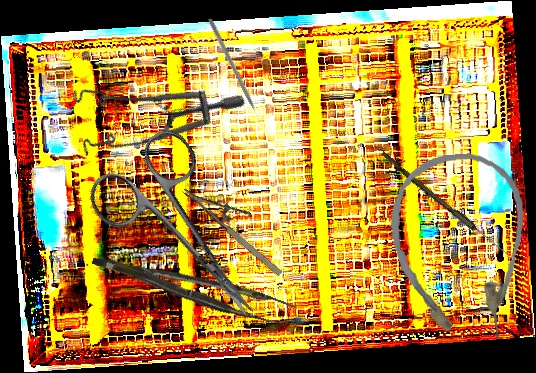Cannula: (384, 149, 535, 347)
Iris Scissors: (79, 122, 293, 351)
Needle Holder: (182, 169, 297, 279)
Pusher: (206, 17, 264, 127)
Speculum: (51, 13, 248, 197)
Surgical Spoon: (378, 151, 511, 257)
Tissue Forceps: (91, 232, 298, 338)
